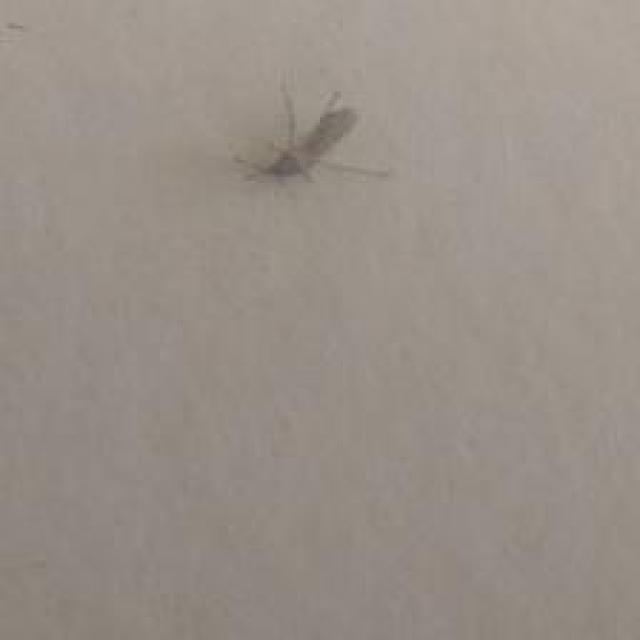Culex: (230, 83, 390, 188)
